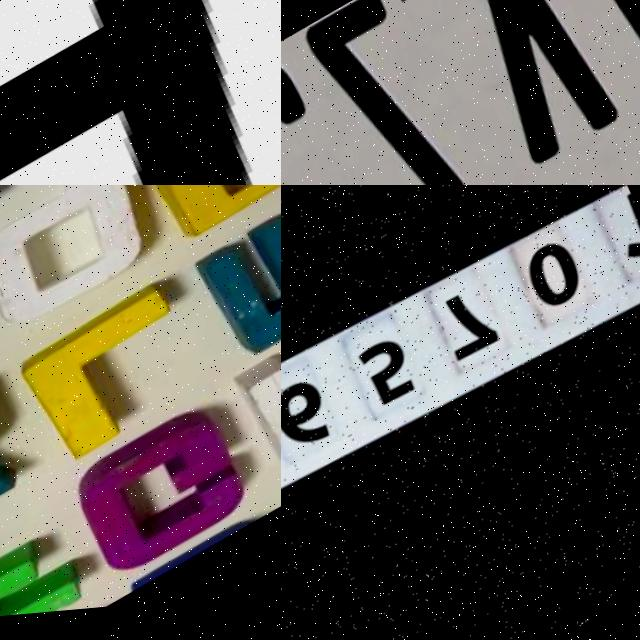0: (507, 232, 604, 342)
1: (587, 198, 640, 300)
4: (533, 0, 640, 120)
5: (342, 327, 437, 435)
6: (281, 363, 358, 484)
7: (420, 277, 521, 393)
A: (0, 0, 281, 185)
C: (281, 33, 401, 185)
F: (0, 497, 101, 628)
G: (71, 404, 270, 597)
H: (240, 301, 281, 495)
L: (21, 280, 230, 473)
M: (202, 185, 281, 371)
Q: (0, 185, 181, 341)
R: (133, 185, 281, 257)
V: (421, 0, 639, 181)
Z: (287, 0, 496, 185)
